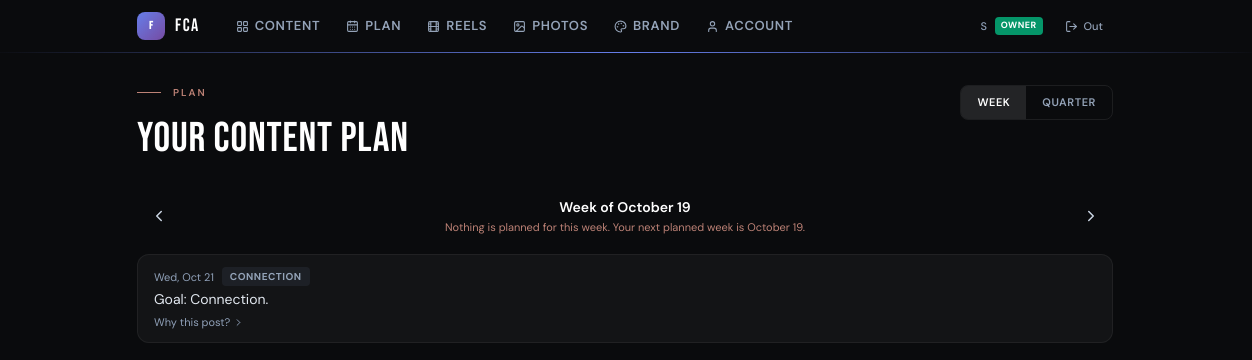
it: Calendar page: the landed week is remembered through real loads › shows A on the landing, hides it after paging forward, shows it again after paging back
Check: the text with test id "next-planned-week" reads "Nothing is planned for this week. Your next planned week is October 19.", box [445,219,805,236]
Click the button named "Next week" at (1091, 216), box [1069,194,1113,238]
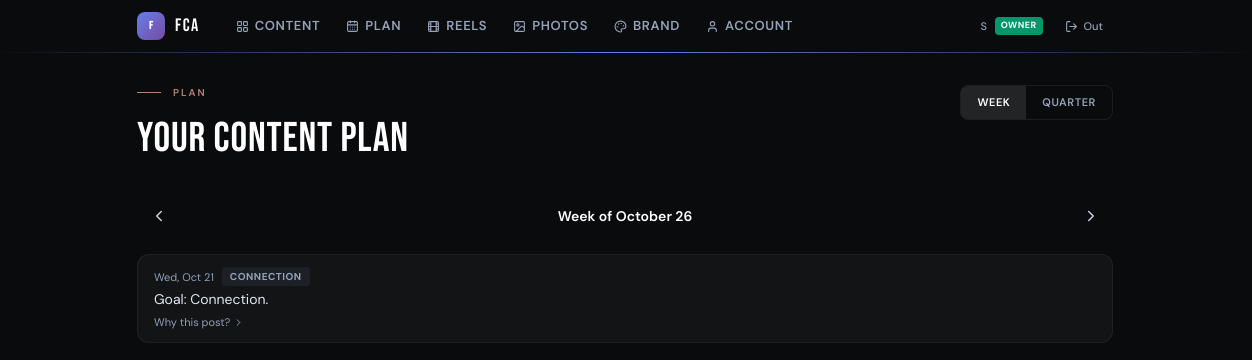
Check: the text with test id "next-planned-week" is gone
Paging back to the landed week shows A again: the claim is about that week and is still true.
Click the button named "Previous week" at (159, 216), box [137,194,181,238]
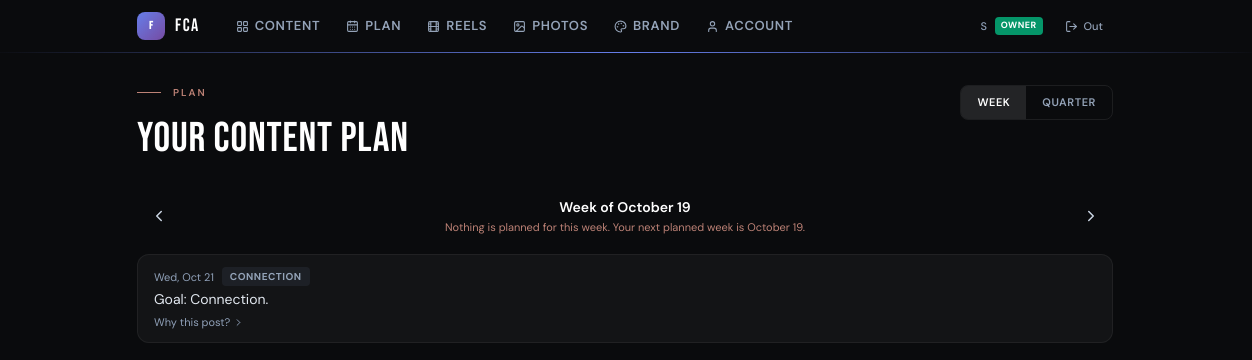
Check: the text with test id "next-planned-week" reads "Nothing is planned for this week. Your next planned week is October 19.", box [445,219,805,236]
A reload of that week (as after a slot action) asks for it by date and keeps the landing.
Click the button named "Next week" at (1091, 216), box [1069,194,1113,238]
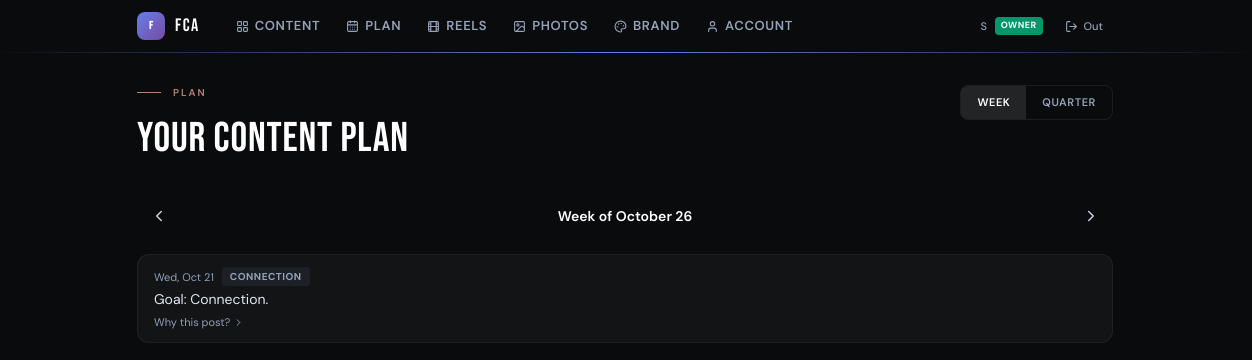
Click the button named "Previous week" at (159, 216), box [137,194,181,238]
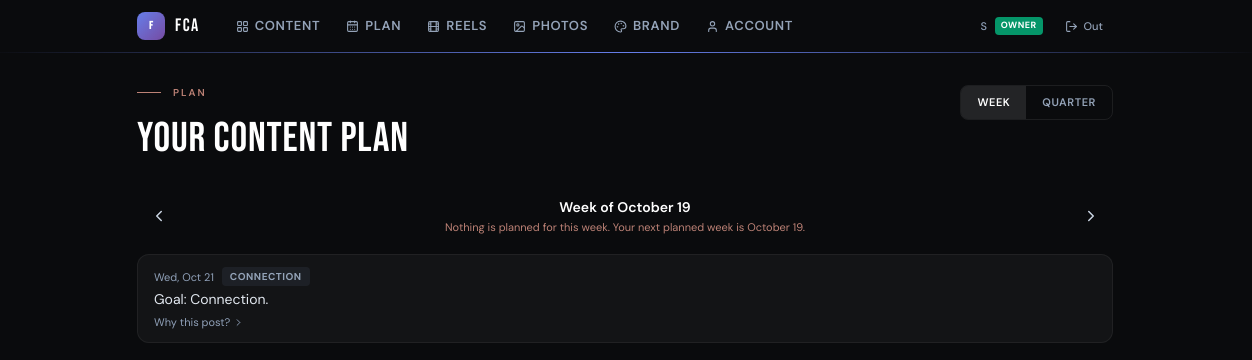
Check: the text with test id "next-planned-week" reads "Nothing is planned for this week. Your next planned week is October 19.", box [445,219,805,236]
